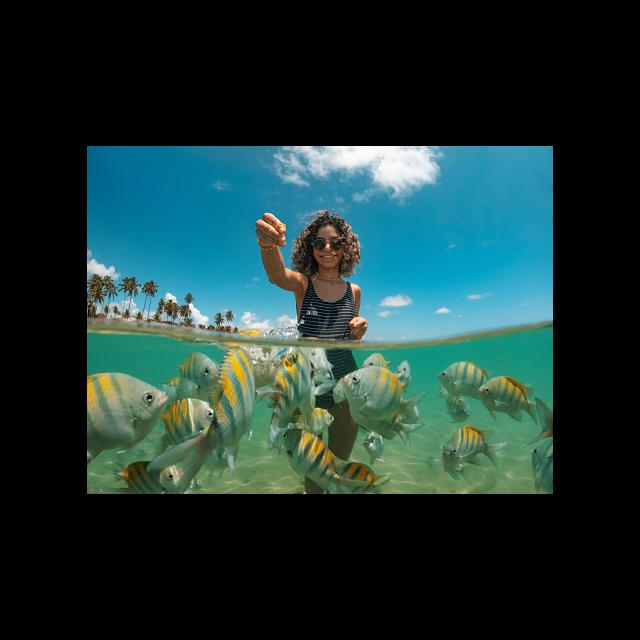female: (278, 202, 382, 275)
